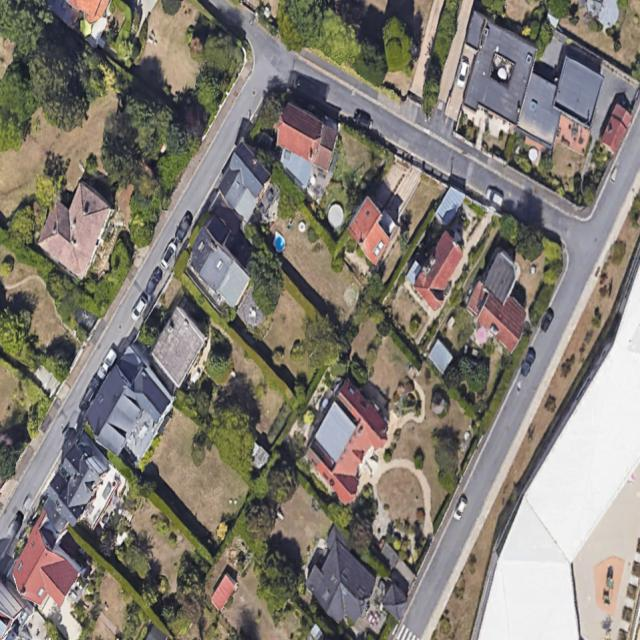maison: (74, 344, 187, 466), (29, 430, 132, 548), (28, 177, 125, 280), (2, 510, 97, 615), (399, 229, 480, 311), (141, 304, 214, 389), (267, 101, 348, 173), (338, 197, 403, 264)
